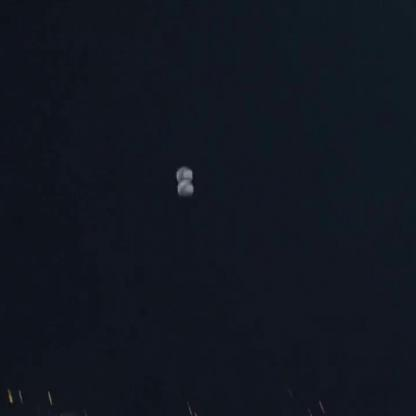ball: (173, 180, 199, 208), (168, 157, 198, 180)
